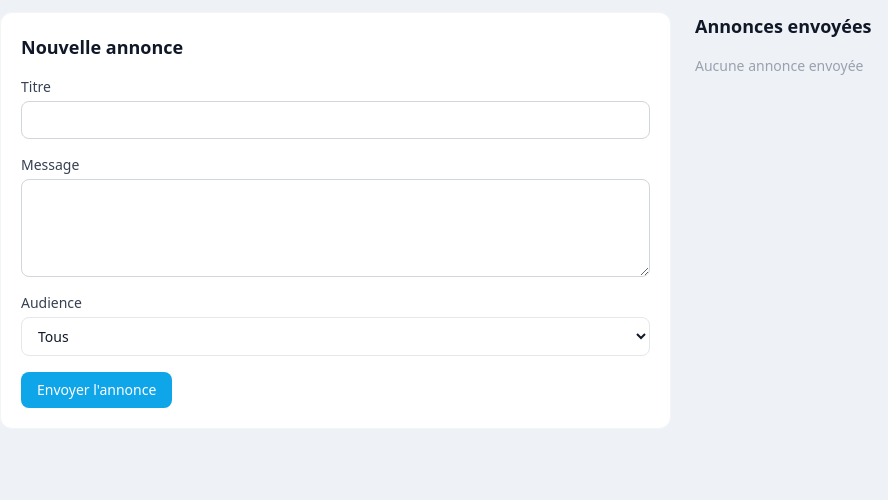
Test: AnnouncementsTab › audience "Classe précise" avec la classe par défaut (collège) : pas de select série
The width and height of the screenshot is (888, 500).
Select "Classe précise" in the dropdown at {"x": 336, "y": 336}, box [21,317,650,356]
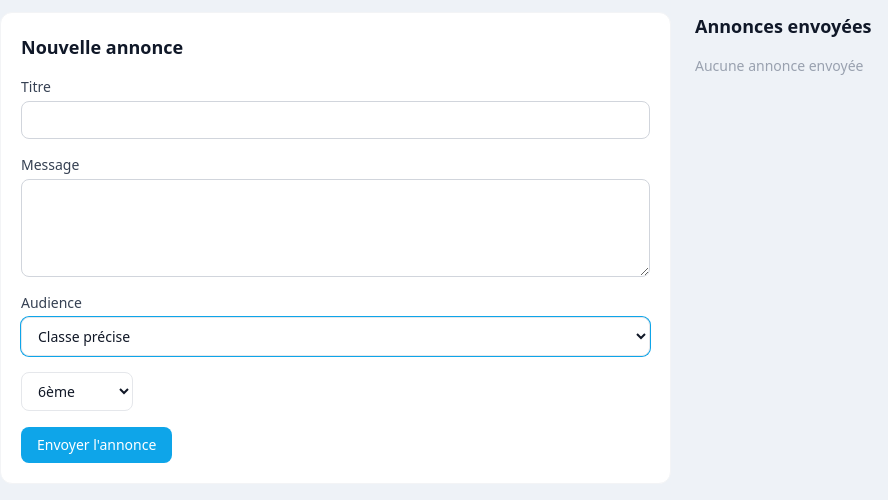
expect the number of dropdowns is 2: met, box [21,317,650,356]; [21,372,133,411]
